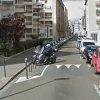Car: (77, 35, 100, 90)
